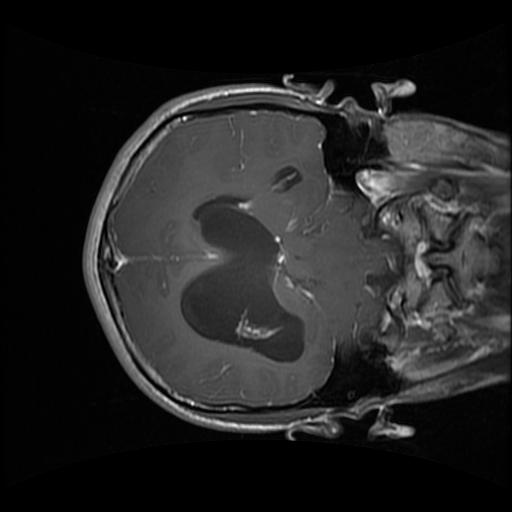glioma: (180, 191, 307, 365)
